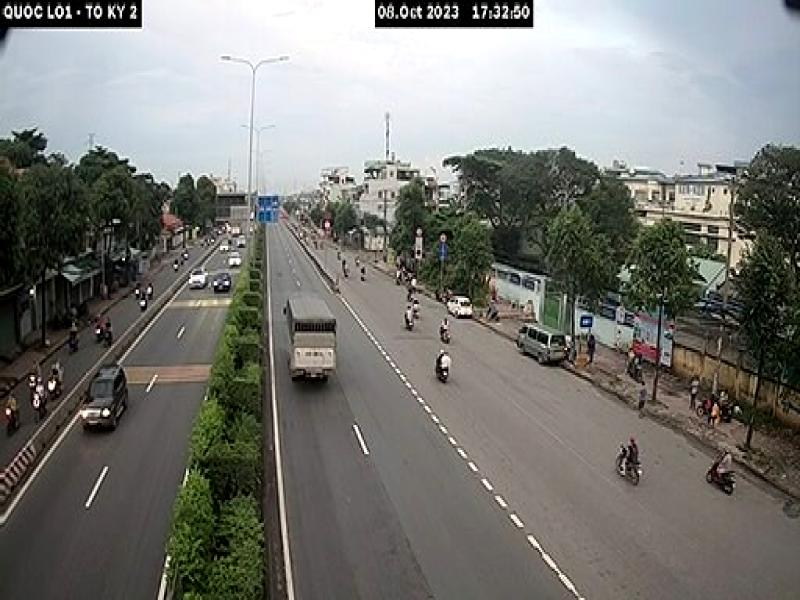bus: (289, 304, 337, 383)
car: (520, 328, 571, 367), (446, 294, 473, 318), (190, 272, 219, 291), (212, 276, 230, 294), (189, 275, 208, 290), (454, 294, 473, 308), (230, 255, 243, 268), (176, 252, 187, 261), (174, 256, 182, 267), (172, 264, 180, 272)
motorcycle: (708, 472, 737, 495)
